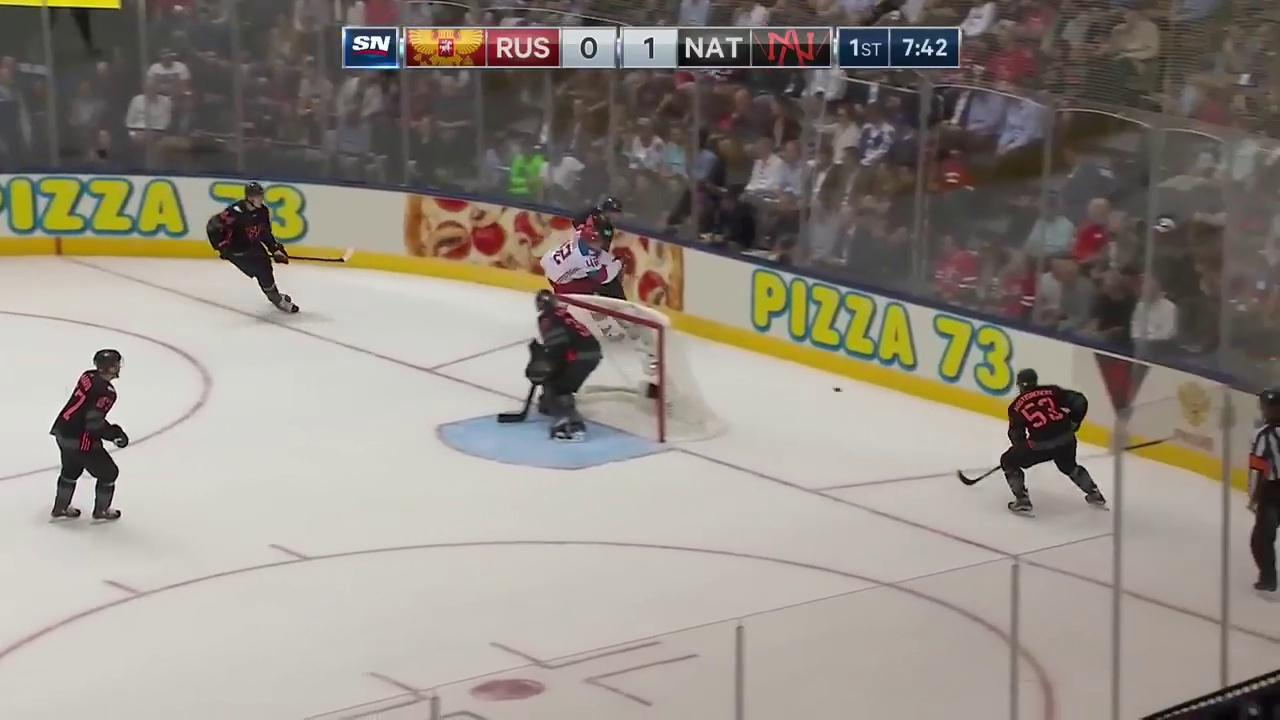ball: (833, 387, 844, 392)
